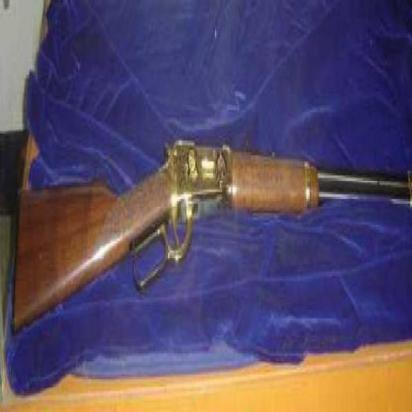Gun: (14, 41, 411, 321)
